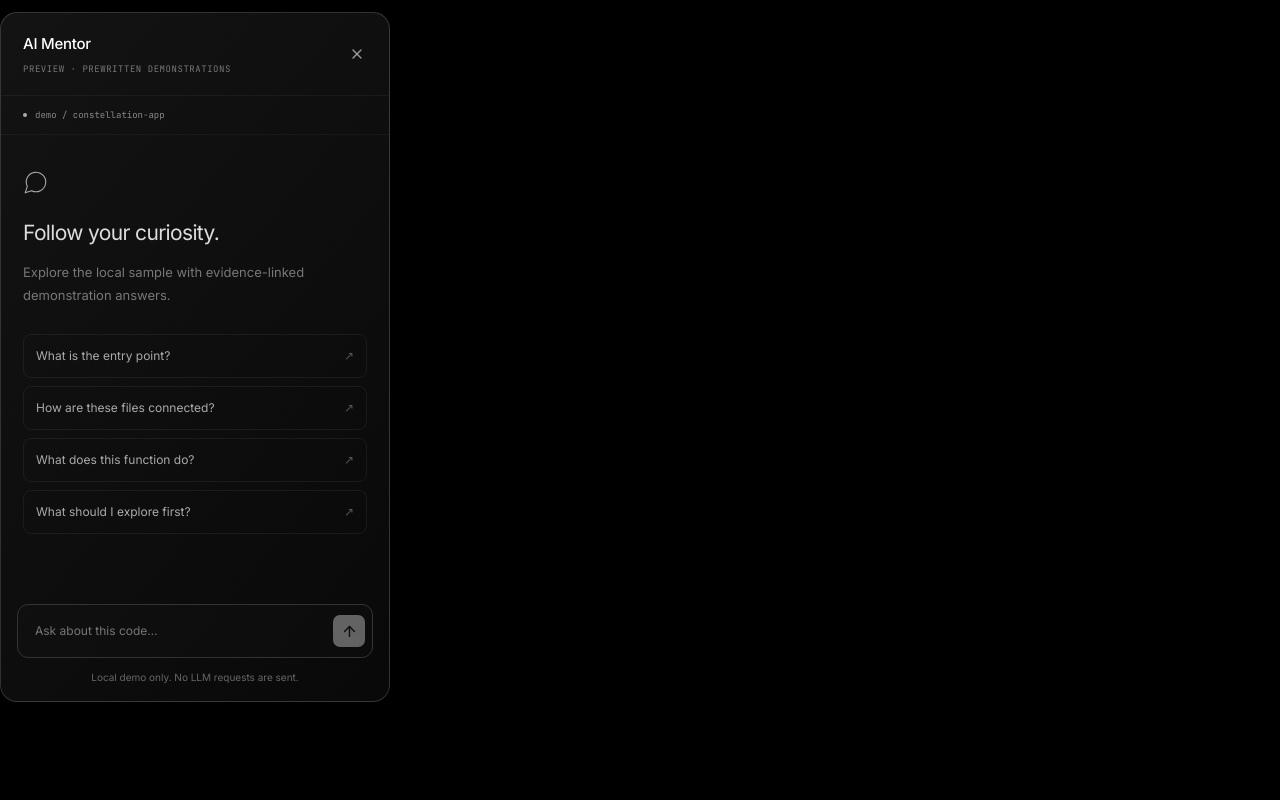
Scenario: loads a labeled mentor response and citations
What coordinates should you click on to do the following:
click the button "What is the entry point? ↗"
I would click on:
 (103, 355)
Its box is [23,334,367,378].
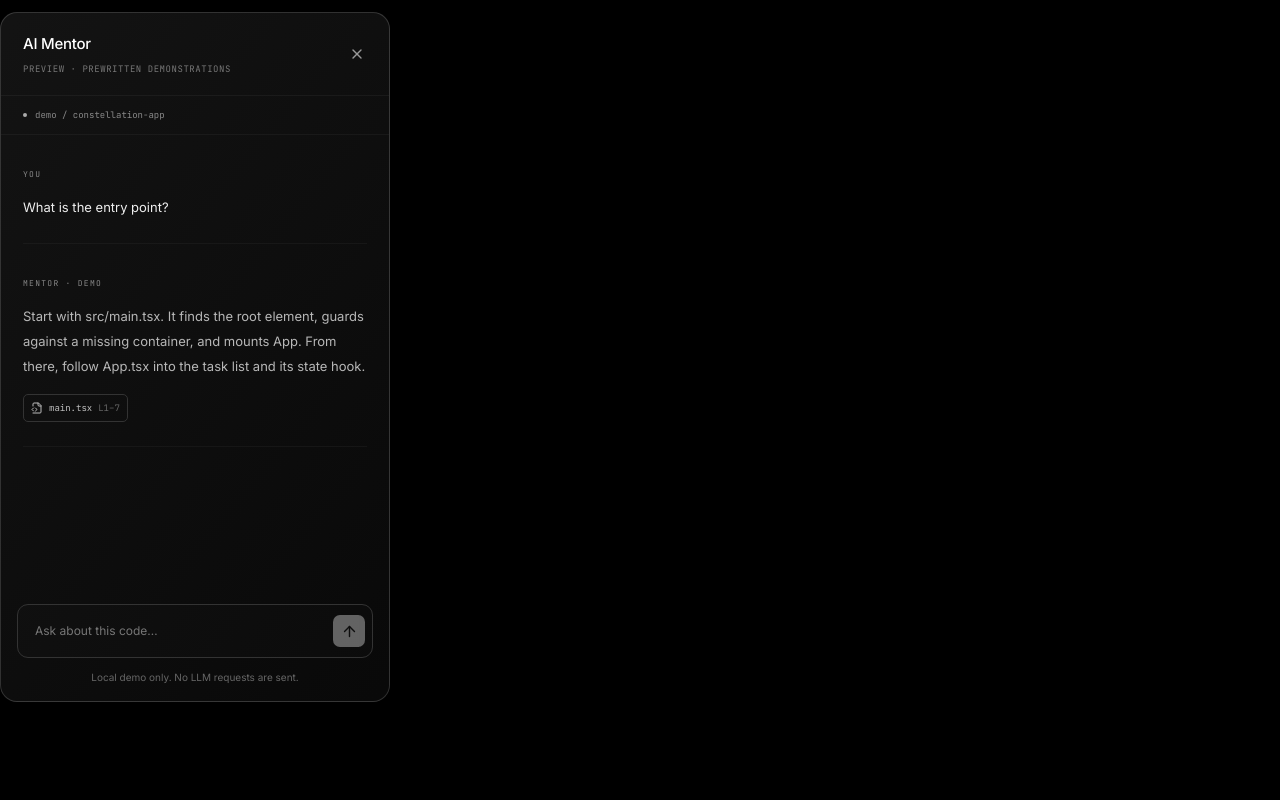
Result: the text "MENTOR · DEMO" is shown at [23,278,102,288]
Result: the button "main.tsx L1–7" is shown at [23,394,128,422]
